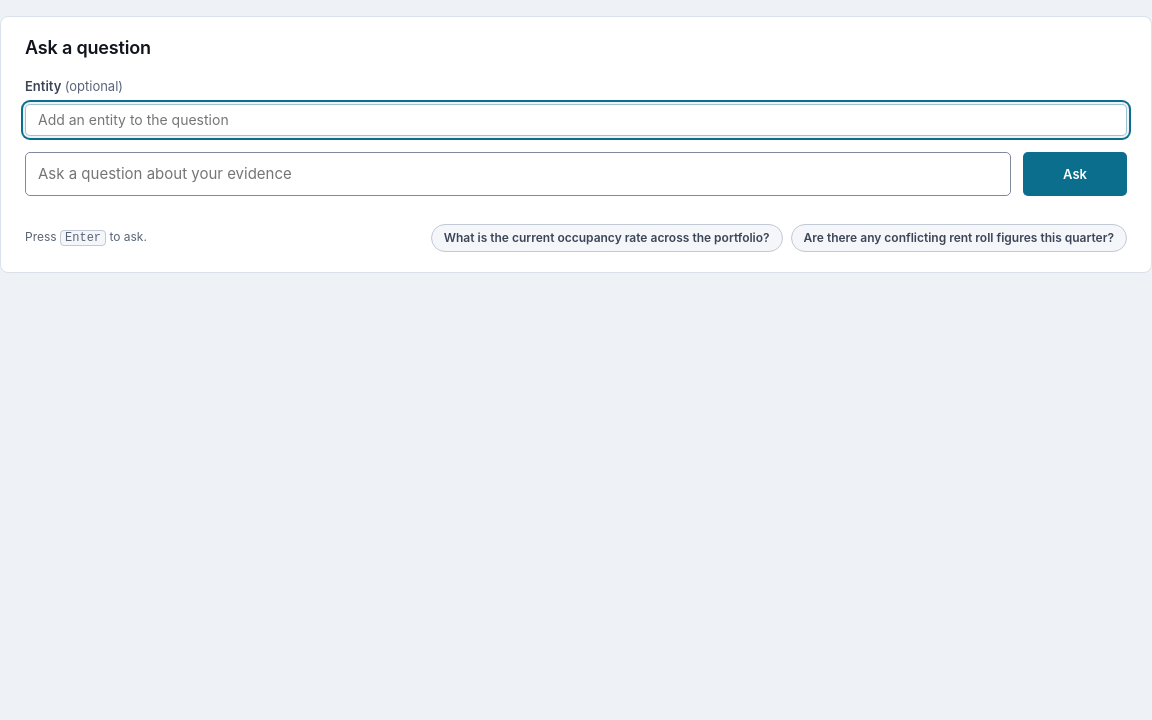
Test: AnswerComposer › still allows asking when the entity list fails to load
Focus the dropdown labelled "Entity (optional)" at (576, 120), box [25,104,1127,136]
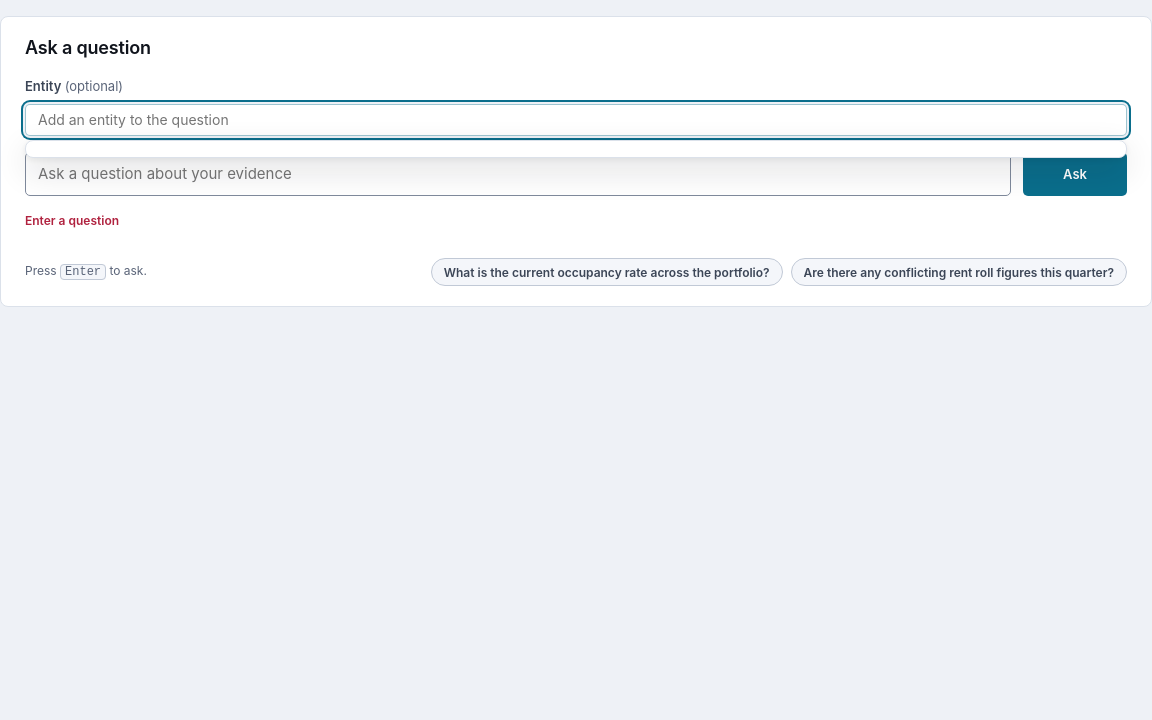
Type "Q" into the field labelled "question".
click(518, 174); type("Q")  # box [25,152,1011,196]
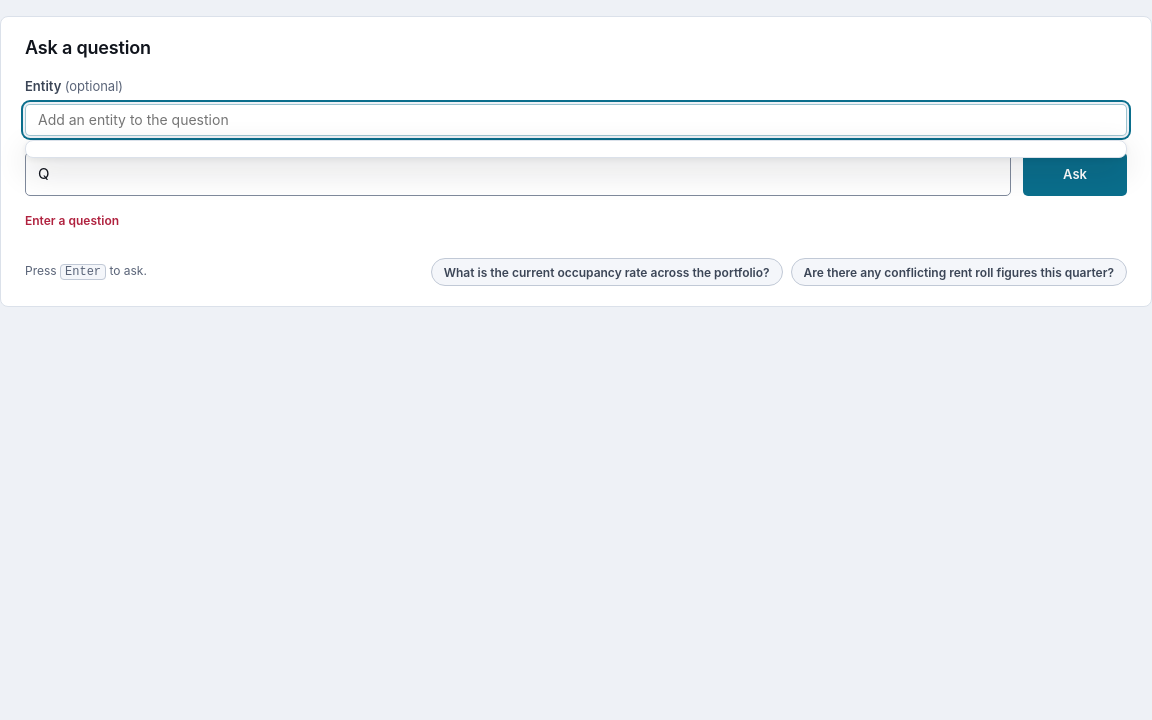
Click the button "Ask".
click(1075, 174)  # box [1023,152,1127,196]
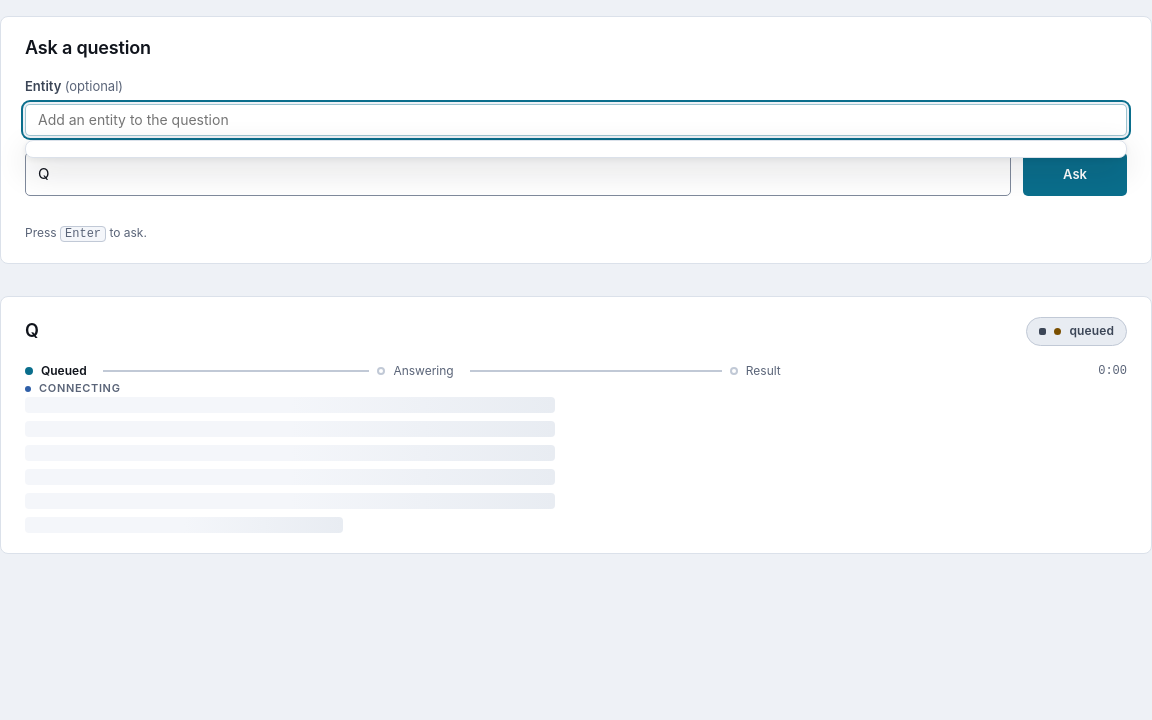
Expected: the text "queued" is shown, [1026,317,1127,346]
